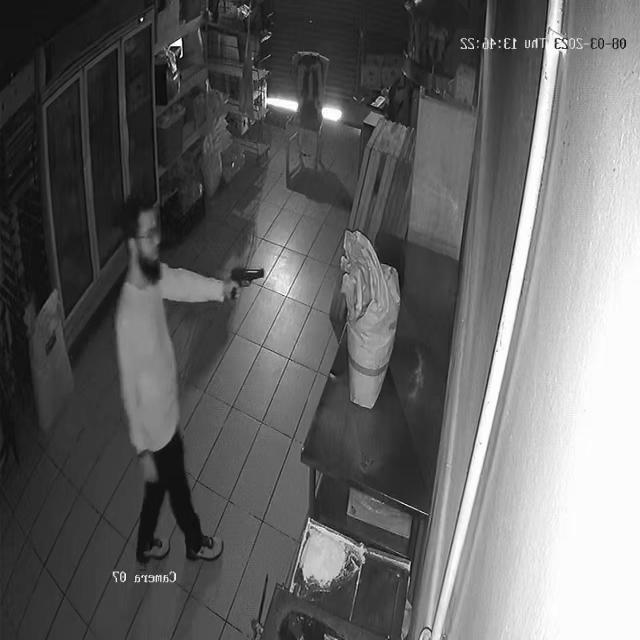Gun: (222, 254, 272, 304)
